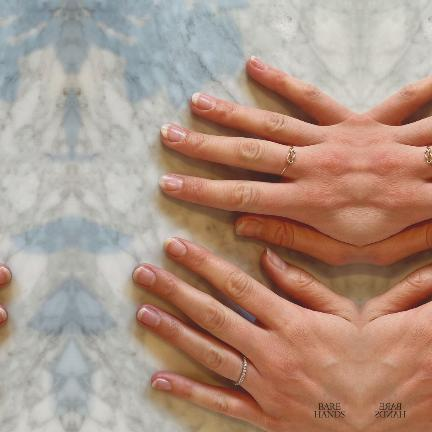Nail: (267, 246, 288, 270), (236, 219, 264, 236), (161, 124, 187, 142), (133, 266, 156, 286), (137, 307, 160, 327), (163, 238, 186, 257), (192, 92, 216, 110), (159, 174, 182, 191), (251, 55, 267, 70), (152, 378, 172, 390), (0, 266, 11, 285), (0, 308, 7, 323), (432, 264, 432, 268)
